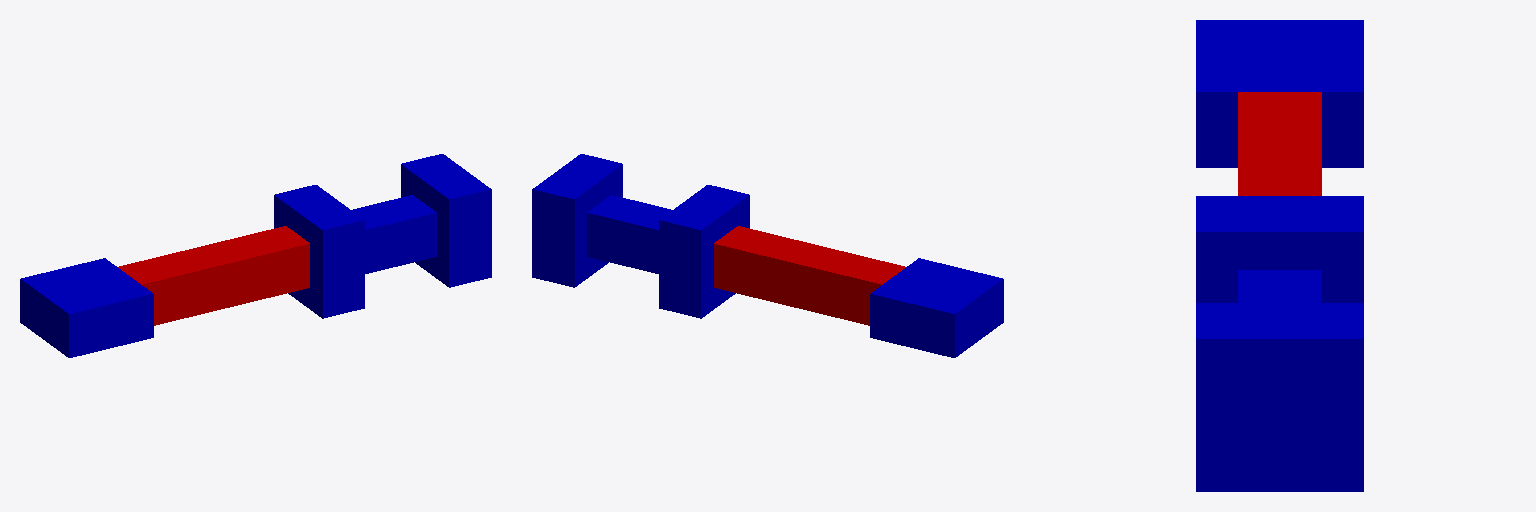
URDF robot description (Chain):
<?xml version="1.0"?>
<robot name="Chain">
  <link name="baselink"/>
  <link name="chainbase">
    <visual>
      <geometry>
        <box size="0.0 .0 0.0"/>
      </geometry>
    </visual>
    <inertial>
      <origin rpy="0 0 0" xyz="0 0 0"/>
      <mass value="0.0001"/>
      <inertia ixx="1e-08" ixy="0" ixz="0" iyy="1e-08" iyz="0" izz="1e-08"/>
    </inertial>
  </link>
  <link name="link1">
    <visual>
      <origin rpy="0 0 0" xyz="0.05 0.0 0"/>
      <geometry>
        <box size="0.1 0.1 0.05"/>
      </geometry>
      <material name="blue">
        <color rgba="0 0 0.8 1"/>
      </material>
    </visual>
    <inertial>
      <origin rpy="0 0 0" xyz="0.05 0.0 0.0"/>
      <mass value="5.70044"/>
      <inertia ixx="0.04709102262" ixy="0.0" ixz="0.0" iyy="0.03766976455" iyz="0.0" izz="0.03595988478"/>
    </inertial>
  </link>
  <link name="link2">
    <visual>
      <origin rpy="0 0 0" xyz="0.1 0.0 0"/>
      <geometry>
        <box size="0.2 0.05 0.05"/>
      </geometry>
      <material name="red">
        <color rgba="0.8 0 0 1"/>
      </material>
    </visual>
    <inertial>
      <origin rpy="0 0 0" xyz="0.1 0.0 0.0"/>
      <mass value="3.22698"/>
      <inertia ixx="0.01175209419" ixy="0.0" ixz="0.0" iyy="0.0278859752" iyz="0.0" izz="0.02078749298"/>
    </inertial>
  </link>
	<link name="link3">
    <visual>
      <origin rpy="0 0 0" xyz="0.0 0.0 0.025"/>
      <geometry>
        <box size="0.1 0.1 0.05"/>
      </geometry>
      <material name="blue">
        <color rgba="0 0 0.8 1"/>
      </material>
    </visual>
    <inertial>
      <origin rpy="0 0 0" xyz="0.00 0.0 0.025"/>
      <mass value="4.31272"/>
      <inertia ixx="0.02661733557" ixy="0.0" ixz="0.0" iyy="0.02844355207" iyz="0.0" izz="0.01248008322"/>
    </inertial>
  </link>
	<link name="link4">
    <visual>
      <origin rpy="0 0 0" xyz="0.05 0.0 0.0"/>
      <geometry>
        <box size="0.1 0.05 0.05"/>
      </geometry>
      <material name="blue">
        <color rgba="0 0 0.8 1"/>
      </material>
    </visual>
    <inertial>
      <origin rpy="0 0 0" xyz="0.05 0.0 0.0"/>
      <mass value="2.07206"/>
      <inertia ixx="0.00711582686" ixy="0.0" ixz="0.0" iyy="0.01318227876" iyz="0.0" izz="0.00926852064"/>
    </inertial>
  </link>
	<link name="link5">
    <visual>
      <origin rpy="0 0 0" xyz="0.0 0.0 0.025"/>
      <geometry>
        <box size="0.1 0.1 0.05"/>
      </geometry>
      <material name="blue">
        <color rgba="0 0 0.8 1"/>
      </material>
    </visual>
    <inertial>
      <origin rpy="0 0 0" xyz="0.05 0.0 0.0"/>
      <mass value="2.24665"/>
      <inertia ixx="0.01667742825" ixy="0.0" ixz="0.0" iyy="0.01675457264" iyz="0.0" izz="0.0037463115"/>
    </inertial>
  </link>


  <!-- Joints -->
  <joint name="basetoroot" type="fixed">
    <parent link="baselink"/>
    <child link="chainbase"/>
    <origin rpy="0 0 0" xyz="0 0 0"/>
  </joint>
  <joint name="roottolink1" type="revolute">
    <parent link="chainbase"/>
    <child link="link1"/>
    <origin rpy="0 0 0" xyz="0.0 0.0 0"/>
    <axis xyz="0 0 1"/>
    <dynamics damping="0.7" friction="0.0"/>
    <limit effort="100" velocity="1.5" lower="-1.7" upper="1.7"/>
  </joint>
  <joint name="link1tolink2" type="revolute">
    <parent link="link1"/>
    <child link="link2"/>
		<origin rpy="-1.57079632679 0 0" xyz="0.1 0 0.0"/>
    <axis xyz="0 0 1"/>
    <dynamics damping="0.7" friction="0.0"/>
    <!--limit effort="100.0" lower="-2.147" upper="1.047" velocity="10.0"/-->
    <limit effort="100.0" lower="-2.0" upper="1.0" velocity="10.0"/>
  </joint>
  <joint name="link2tolink3" type="revolute">
    <parent link="link2"/>
    <child link="link3"/>
    <origin rpy="1.57079632679 0 1.57079632679" xyz="0.2 0 0"/>
    <axis xyz="0 0 1"/>
    <dynamics damping="0.7" friction="0.0"/>
    <limit effort="100.0" lower="-3.05417993878" upper="3.05417993878" velocity="10.0"/>
  </joint>
	<joint name="link3tolink4" type="revolute">
    <origin rpy="-1.57079632679 -1.57079632679 0" xyz="0.0 0 0.05"/>
    <axis xyz="0 0 1"/>
    <parent link="link3"/>
    <child link="link4"/>
    <limit effort="100.0" lower="-0.05" upper="2.618" velocity="10.0"/>
    <dynamics damping="0.7" friction="0.0"/>
  </joint>
	<joint name="link4tolink5" type="revolute">
    <origin rpy="1.57079632679 0 1.57079632679" xyz="0.1 0 0"/>
    <axis xyz="0 0 1"/>
    <parent link="link4"/>
    <child link="link5"/>
    <limit effort="15.0" lower="-3.059" upper="3.059" velocity="10.0"/>
    <dynamics damping="0.7" friction="0.0"/>
  </joint>

</robot>

--- Facts derived from the render (not from the file) ---
Views: 3 orthographic renders of the robot side by side, from view 1: azimuth 30°, elevation 25°; view 2: azimuth 150°, elevation 25°; view 3: azimuth 270°, elevation 25°.
Model Chain with 7 links and 6 joints (5 revolute, 1 fixed), rooted at baselink, posed all joints at 0.
Visible links, largest first — view 1: link2, link1, link5, link3, link4; view 2: link2, link1, link5, link3, link4; view 3: link5, link1, link3, link2, link4.
Boxes of the visible links, bbox=[...] form: link2: bbox=[118, 226, 309, 325]; link1: bbox=[20, 258, 153, 357]; link5: bbox=[401, 154, 491, 287]; link3: bbox=[274, 185, 364, 318]; link4: bbox=[352, 195, 436, 273]; link2: bbox=[714, 226, 905, 325]; link1: bbox=[870, 258, 1003, 357]; link5: bbox=[532, 154, 622, 287]; link3: bbox=[659, 185, 749, 318]; link4: bbox=[587, 195, 671, 273]; link5: bbox=[1196, 303, 1363, 491]; link1: bbox=[1196, 20, 1363, 167]; link3: bbox=[1196, 196, 1363, 302]; link2: bbox=[1238, 92, 1321, 195]; link4: bbox=[1238, 270, 1321, 302].
Bounding box of the posed robot: 0.5 × 0.1 × 0.1 m (x, y, z).
Geometry: primitives only (box / cylinder / sphere), no mesh files.